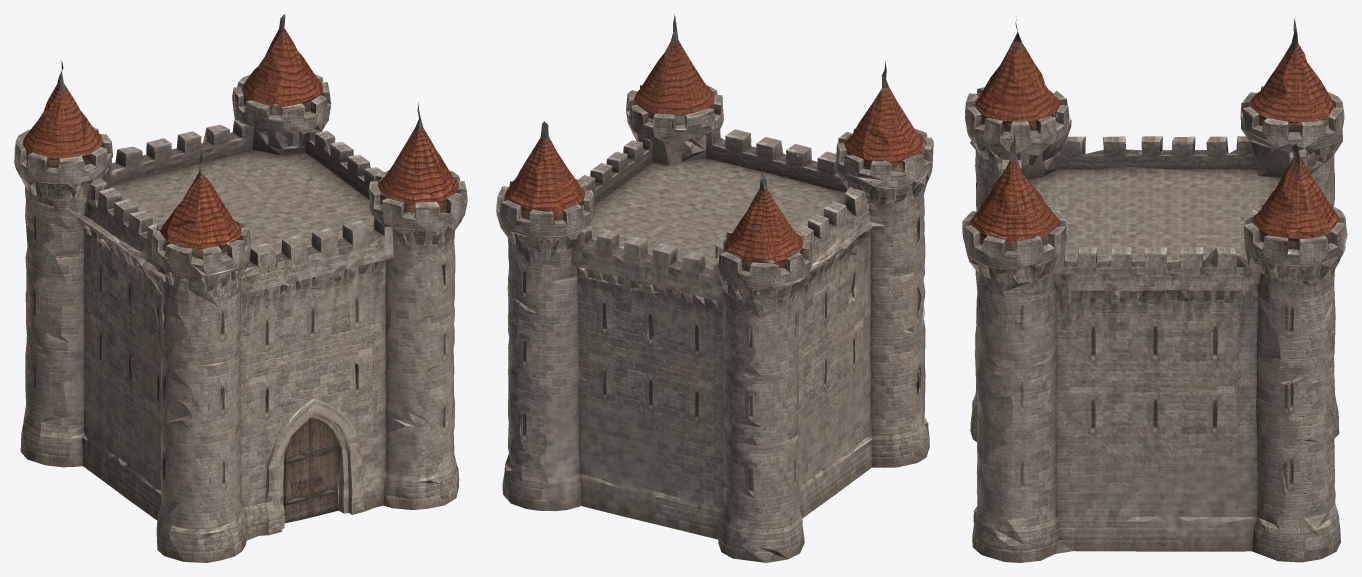
Rendered from keep.glb.
3 views of the same model, side by side, from view 1: azimuth 30°, elevation 25°; view 2: azimuth 150°, elevation 25°; view 3: azimuth 270°, elevation 25° (orthographic). The views are drawn at different scales.
Size of the model in its own units: 1.55 by 1.9 by 1.58.
1 material, 1 textured.
